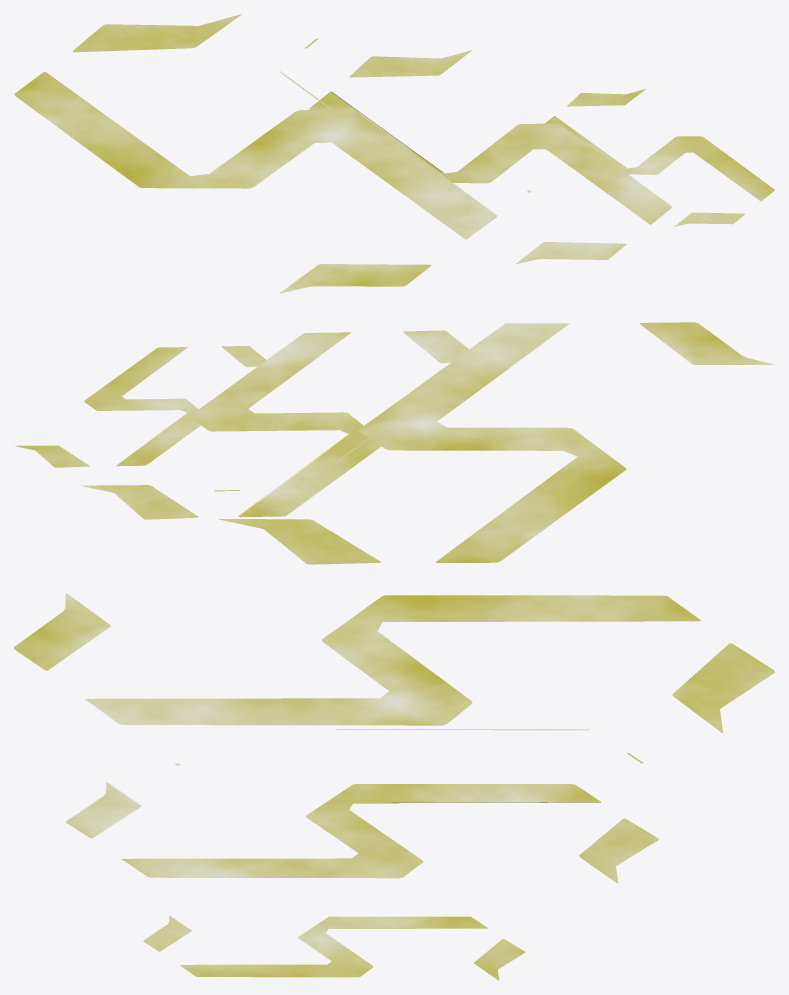
Rendered from RankSSSInside.fbx.
3 views of the same model, one above another, from view 1: azimuth 30°, elevation 25°; view 2: azimuth 150°, elevation 25°; view 3: azimuth 270°, elevation 25° (orthographic). The views are drawn at different scales.
Visible parts, largest first — view 1: LOD_1_Group_0_Sub_2__phong2; view 2: LOD_1_Group_0_Sub_2__phong2; view 3: LOD_1_Group_0_Sub_2__phong2.
Boxes of the visible parts, box(x1,y1,x2,y2) form: LOD_1_Group_0_Sub_2__phong2: box(14, 14, 774, 293); LOD_1_Group_0_Sub_2__phong2: box(15, 322, 774, 564); LOD_1_Group_0_Sub_2__phong2: box(14, 593, 774, 980).
Size of the model in its own units: 26.2 by 3.34 by 27.68.
1 material, 1 textured.
